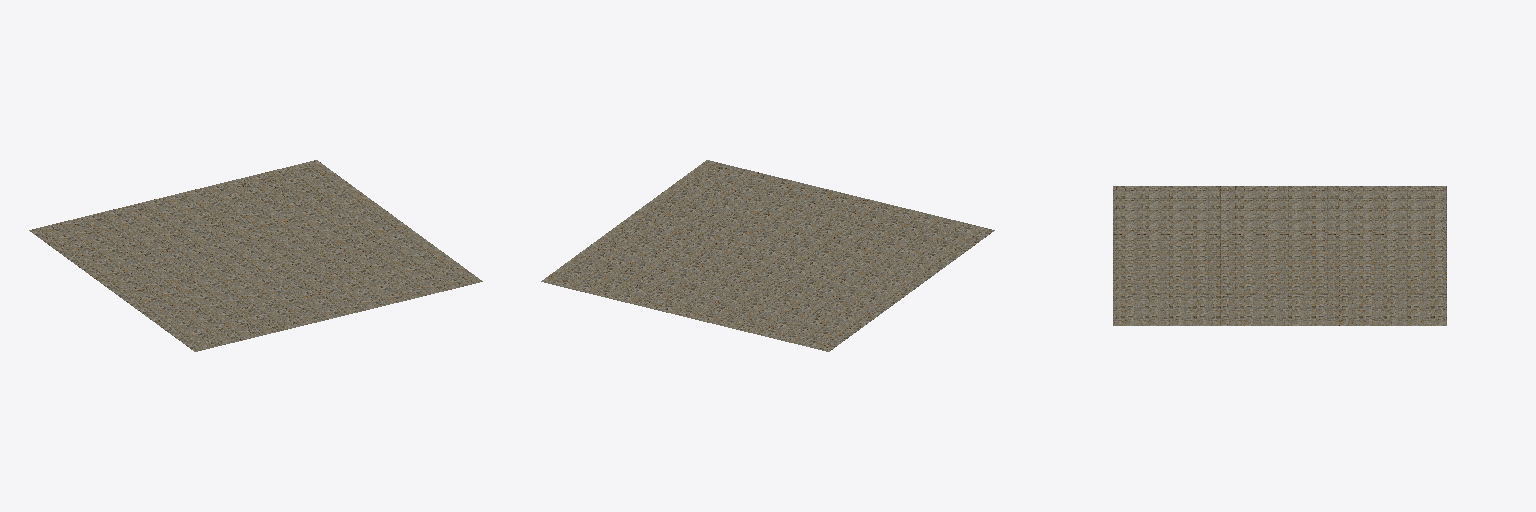
3 renders of one model, left to right at view 1: azimuth 30°, elevation 25°; view 2: azimuth 150°, elevation 25°; view 3: azimuth 270°, elevation 25°, orthographic.
Visible parts, largest first — view 1: Ground_Plane; view 2: Ground_Plane; view 3: Ground_Plane.
Part boxes in pixels (bbox=[...]): Ground_Plane: bbox=[29, 160, 482, 351]; Ground_Plane: bbox=[541, 160, 994, 351]; Ground_Plane: bbox=[1113, 186, 1446, 325].
Size of the model in its own units: 28 by 0 by 28.
Materials: 1 (1 with a texture image).